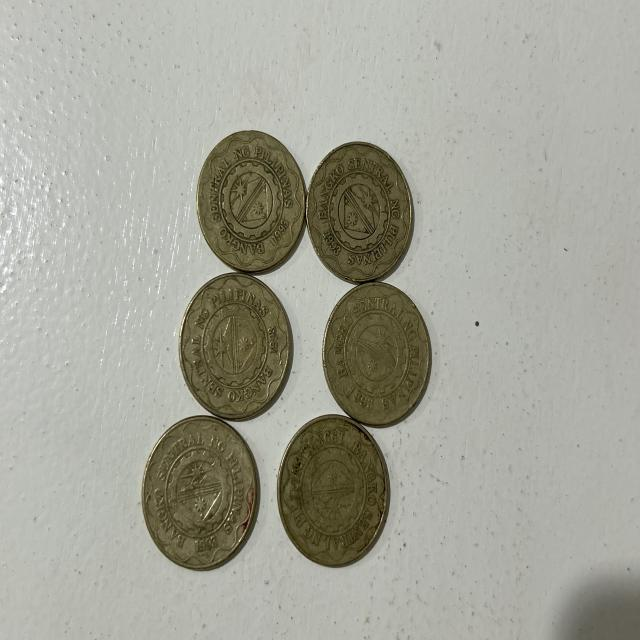5_Old_Back: (273, 408, 395, 564), (143, 417, 260, 579), (180, 264, 296, 426), (318, 280, 437, 422), (196, 127, 304, 275), (305, 140, 413, 274)
